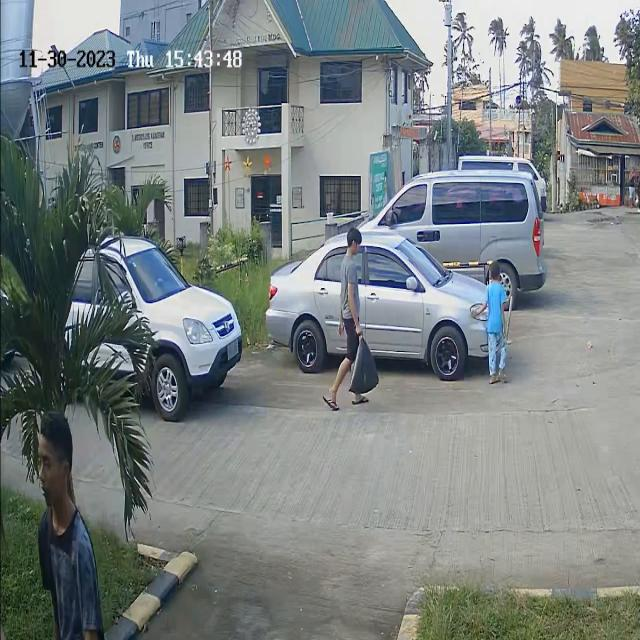garbage: (348, 333, 384, 395)
person: (28, 411, 93, 567), (472, 274, 514, 386), (341, 230, 366, 326)
